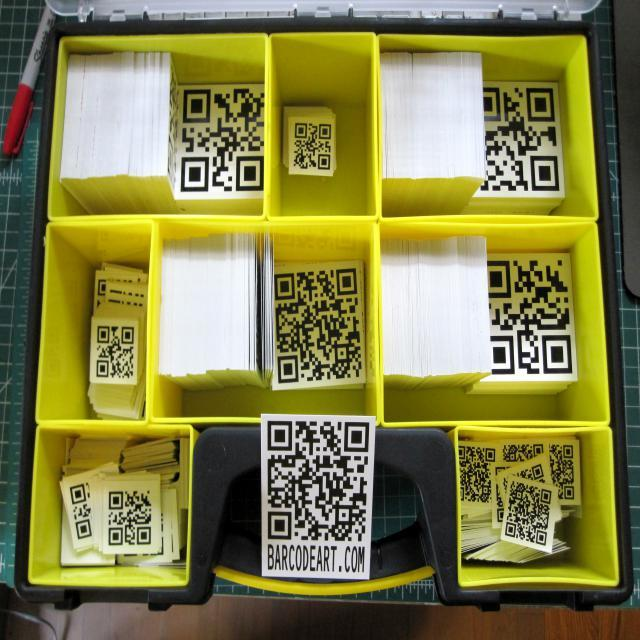qrcode: (269, 422, 371, 542), (275, 269, 363, 384), (488, 262, 573, 376), (182, 89, 266, 193), (478, 88, 560, 192), (506, 481, 553, 547), (110, 491, 153, 546), (460, 446, 497, 504), (97, 327, 135, 379), (295, 124, 333, 171), (169, 63, 180, 192), (550, 446, 575, 501), (71, 483, 94, 540), (504, 445, 545, 463), (513, 464, 547, 485), (497, 479, 505, 523), (98, 280, 107, 310)
